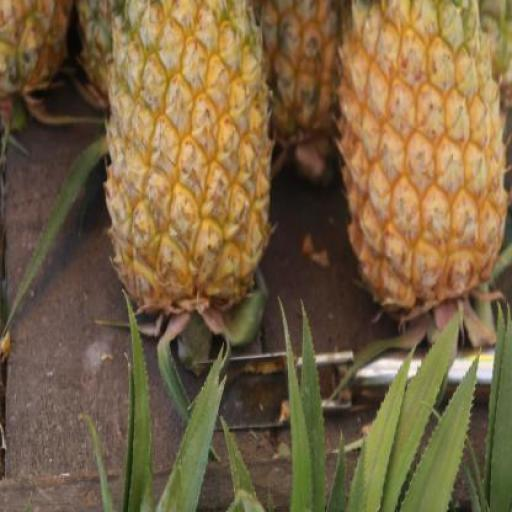Pineapple - v8 v1: (100, 1, 274, 318), (342, 0, 512, 313)
